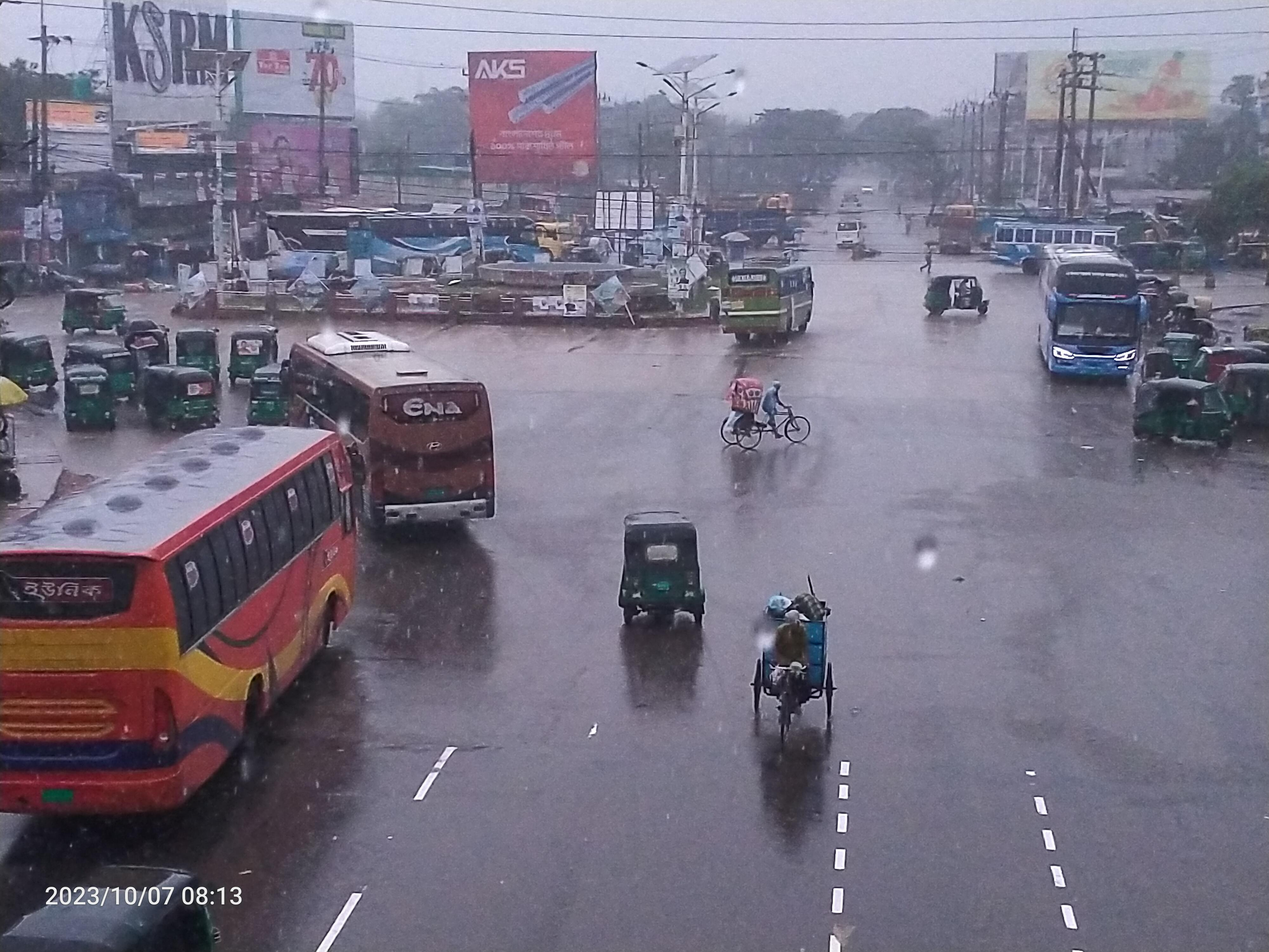Bus: (16, 412, 381, 856), (270, 293, 515, 554), (1029, 228, 1150, 402), (340, 205, 557, 288), (716, 243, 838, 352), (248, 192, 379, 291), (988, 214, 1144, 279)
Car: (714, 575, 863, 760), (696, 362, 831, 471), (829, 210, 872, 261)
